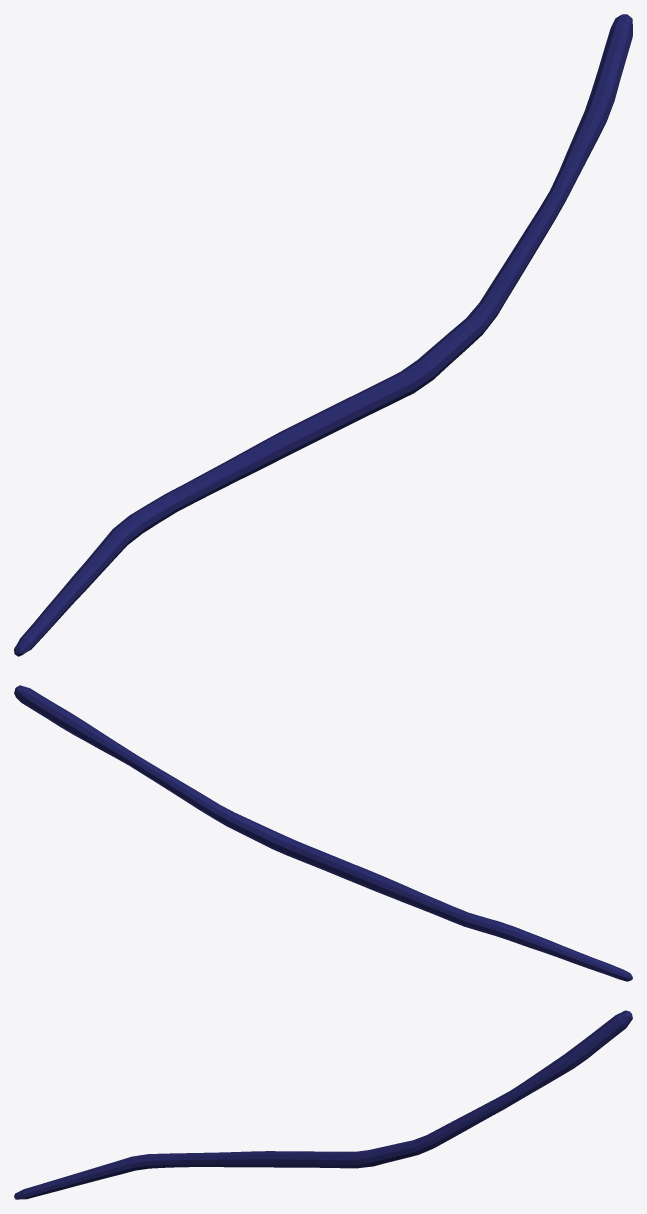
Rendered from Trochlear_nerve_L.glb.
3 renders of one model, top to bottom at view 1: azimuth 30°, elevation 25°; view 2: azimuth 150°, elevation 25°; view 3: azimuth 330°, elevation 25°, orthographic. The views are drawn at different scales.
Parts seen in each view (by area): view 1: Trochlear_nerve_L; view 2: Trochlear_nerve_L; view 3: Trochlear_nerve_L.
Part boxes in pixels (x1=…): Trochlear_nerve_L: x1=14, y1=14, x2=632, y2=656; Trochlear_nerve_L: x1=14, y1=685, x2=632, y2=981; Trochlear_nerve_L: x1=14, y1=1010, x2=632, y2=1199.
Size of the model in its own units: 0.076 by 0.0338 by 0.0261.
Materials: 1 (1 with a texture image).
